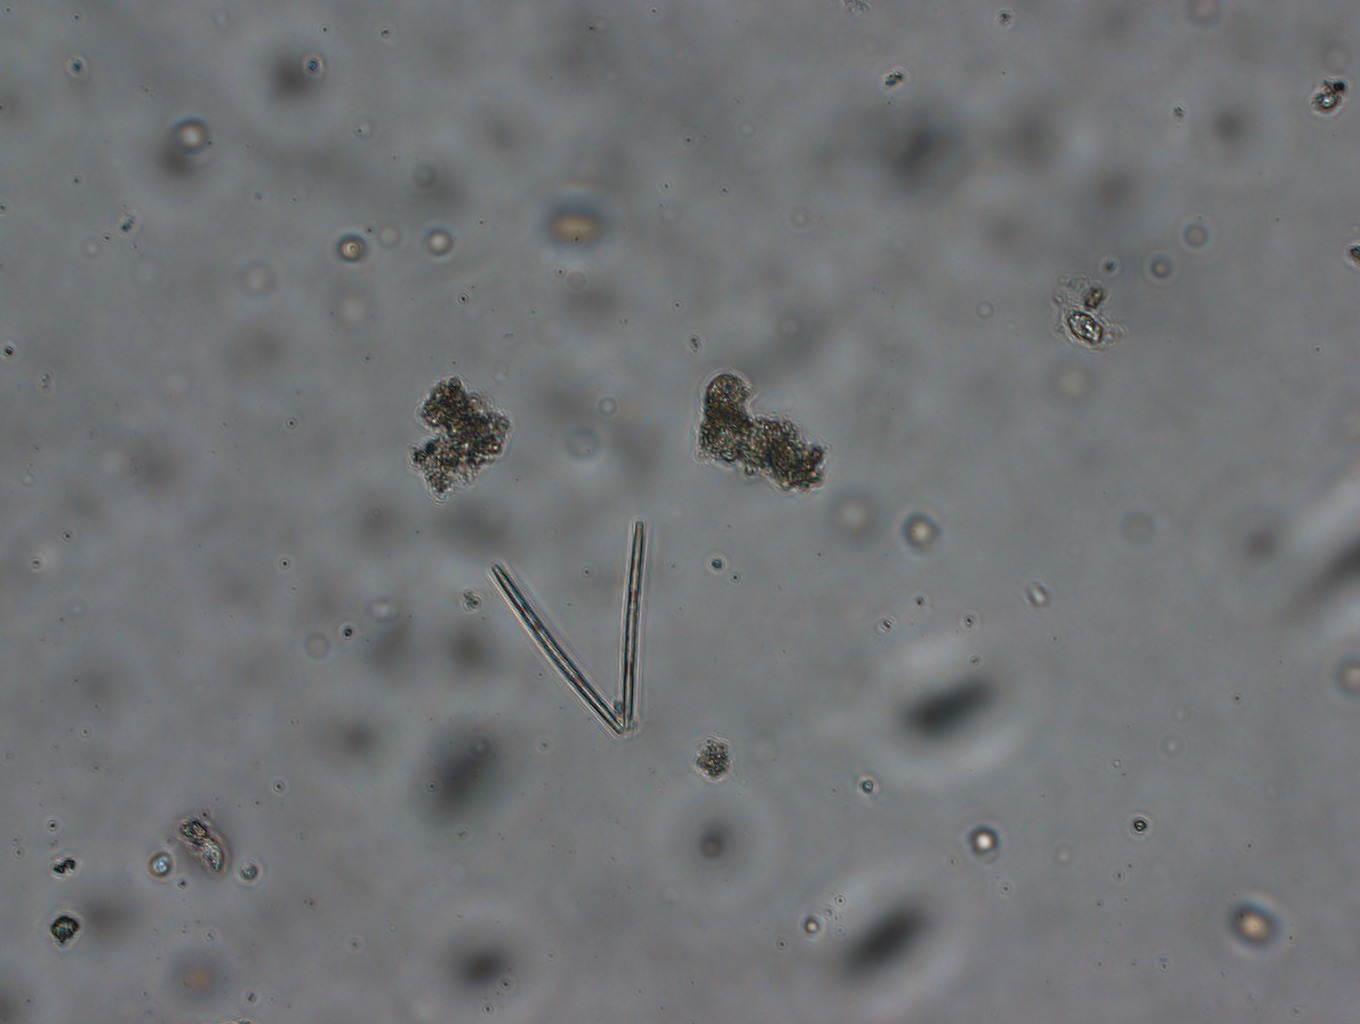thalassionema frauenfeldii: (477, 510, 670, 745)
